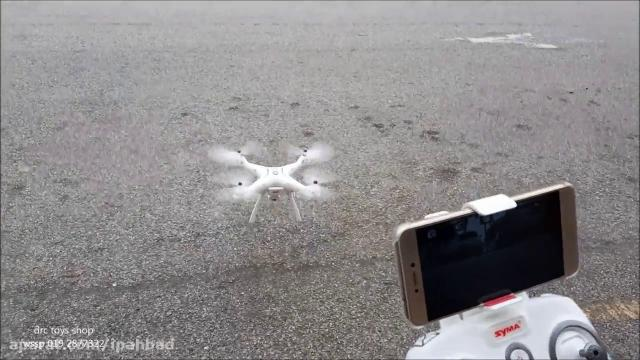drone: (204, 136, 346, 226)
